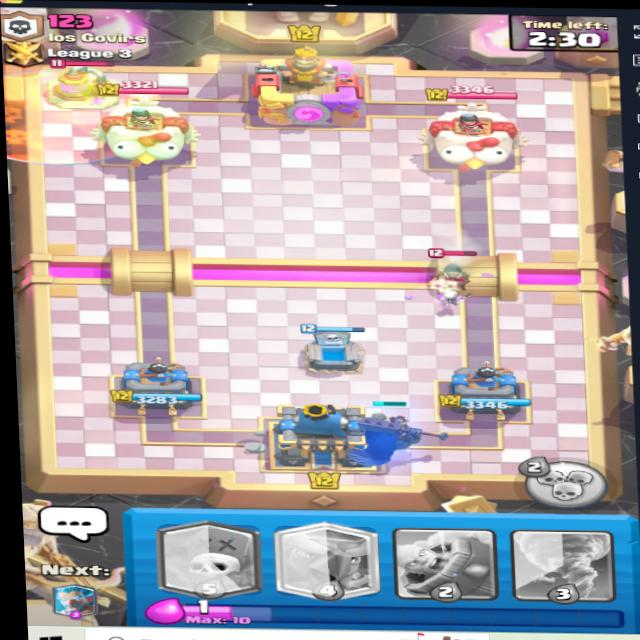bandit: (417, 243, 498, 307)
elixir-collector: (47, 59, 128, 114)
